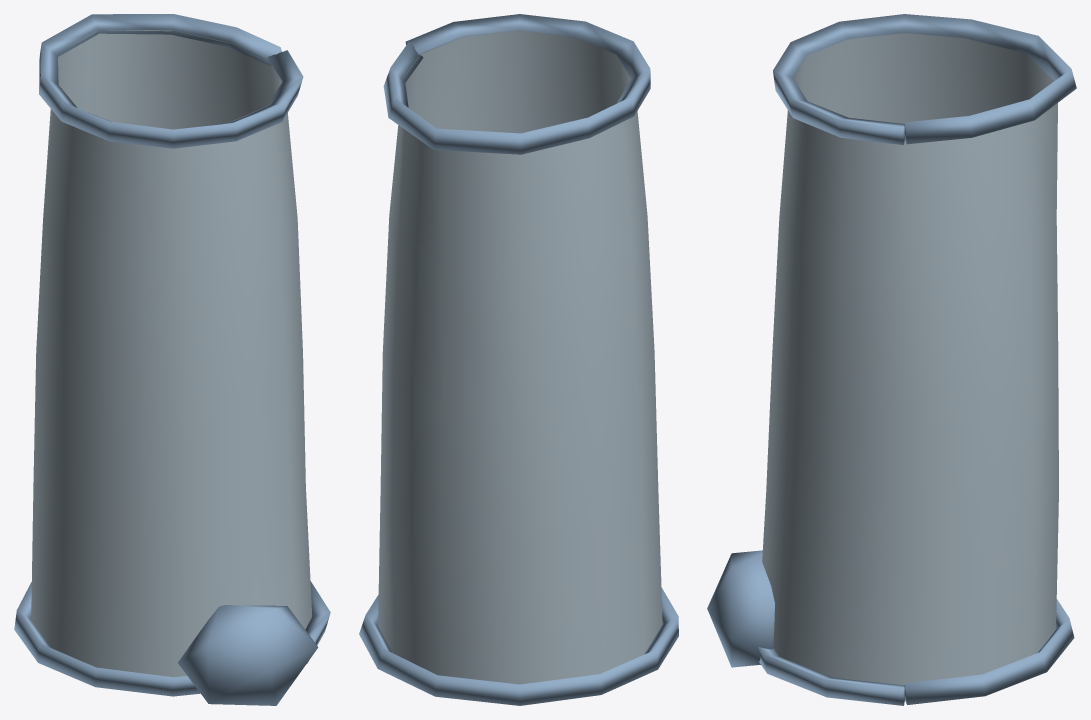
Rendered from platinum_armor_greave.L.glb.
3 views of the same model, side by side, from view 1: azimuth 30°, elevation 25°; view 2: azimuth 150°, elevation 25°; view 3: azimuth 270°, elevation 25° (orthographic). The views are drawn at different scales.
Parts seen in each view (by area): view 1: platinum_armor_greave.L; view 2: platinum_armor_greave.L; view 3: platinum_armor_greave.L.
Boxes of the visible parts, x1,y1,x2,y2 form: platinum_armor_greave.L: (14,14,330,705); platinum_armor_greave.L: (359,14,678,705); platinum_armor_greave.L: (707,14,1076,705).
Size of the model in its own units: 0.1996 by 0.4044 by 0.2298.
